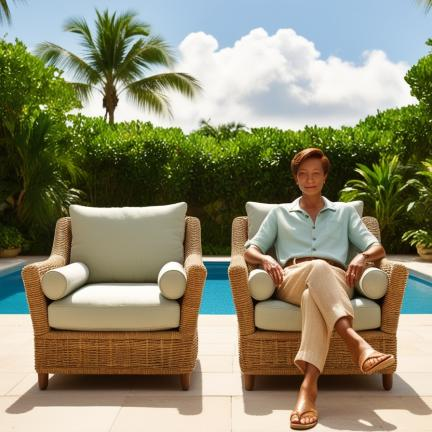empty chair: (22, 202, 206, 389)
guest on chair: (229, 148, 408, 431)
